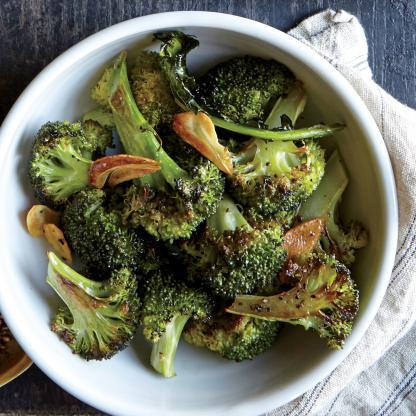broccoli: (20, 31, 369, 380)
